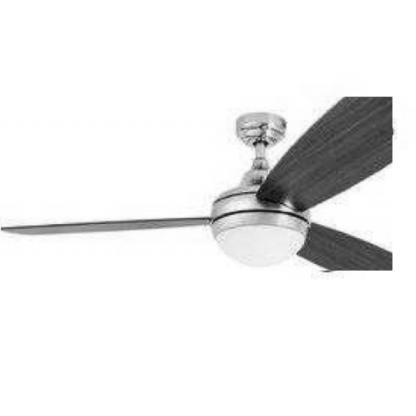ceiling-fan: (1, 97, 393, 271)
